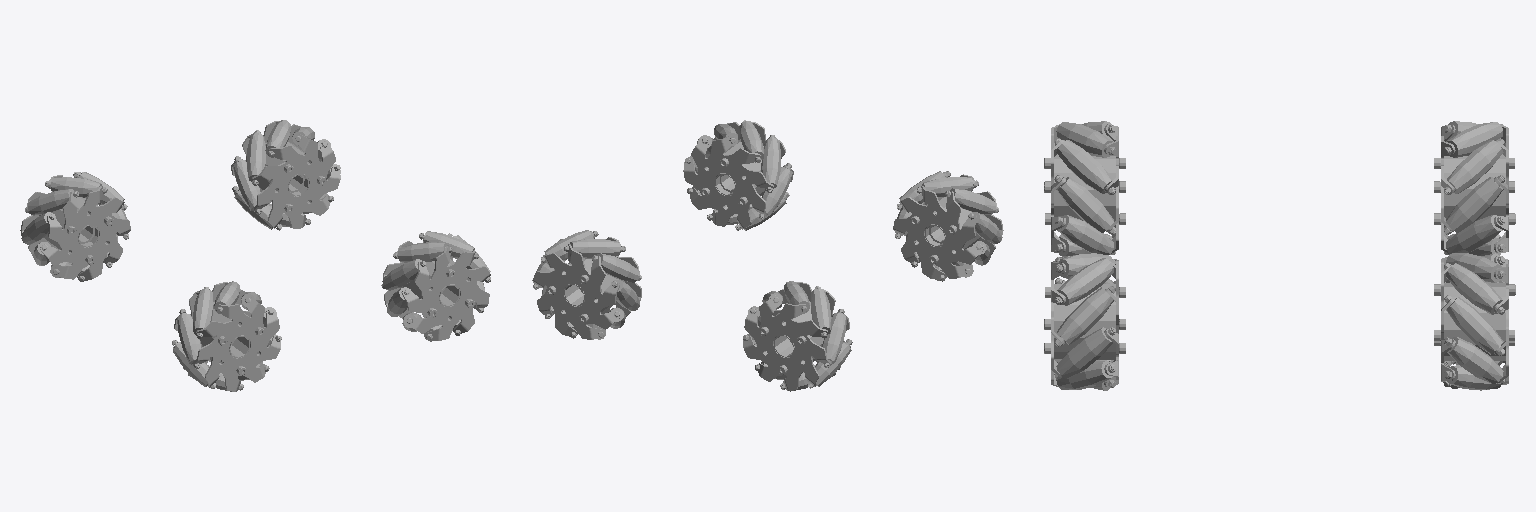
The robot description file, URDF, robot "tb4_model":
<?xml version="1.0" ?>
<robot name="tb4_model" xmlns:xacro="http://www.ros.org/wiki/xacro">
	<link name = "odom"/>
	<joint name="base_joint" type="fixed">
		<parent link="odom"/>
		<child link="base_link"/>	 
	</joint>
	<link name="base_link">
		<collision>
			<origin xyz = "0 0 0" rpy="0 0 0" />
			<geometry>
				<mesh filename="package://AR_TB4WD_model/meshes/base.stl" scale="0.01 0.01 0.01"/>
			</geometry>
		</collision>
		<visual>
			<geometry>
				<mesh filename="package://AR_TB4WD_model/meshes/base.stl" scale="0.01 0.01 0.01"/>
			</geometry>
			<material name="grey">
    				<color rgba="0.7 0.7 0.7 1.0"/>
  			</material>
		</visual>
	</link>
	<joint name="tb4_wheel_1_joint" type="revolute">
		<parent link="base_link"/>
		<child link="wheel0"/>
		<origin xyz = "0.115 0.1185 0.016" rpy="1.57 0 0" />
		<axis xyz="0 0 1" />
		<limit effort="1.0" lower="-3.14" upper="3.14" velocity="5.0"/>
	</joint>
	<link name="wheel0">
		<collision>
			<origin xyz = "0 0 0" rpy="0 0 0" />
			<geometry>
				<mesh filename="package://AR_TB4WD_model/meshes/wheel_1.stl" scale="0.01 0.01 0.01"/>
			</geometry>
		</collision>
		<visual>
			<geometry>
				<mesh filename="package://AR_TB4WD_model/meshes/wheel_1.stl" scale="0.01 0.01 0.01"/>
			</geometry>
			<material name="grey">
    				<color rgba="0.7 0.7 0.7 1.0"/>
  			</material>
		</visual>
	</link>
	<joint name="tb4_wheel_2_joint" type="revolute">
		<parent link="base_link"/>
		<child link="wheel1"/>
		<origin xyz = "0.115 -0.1185 0.016" rpy="1.57 0 0" />
		<axis xyz="0 0 1" />
		<limit effort="1.0" lower="-3.14" upper="3.14" velocity="5.0"/>
	</joint>
	<link name="wheel1">
		<collision>
			<origin xyz = "0 0 0" rpy="0 0 0" />
			<geometry>
				<mesh filename="package://AR_TB4WD_model/meshes/wheel_2.stl" scale="0.01 0.01 0.01"/>
			</geometry>
		</collision>
		<visual>
			<geometry>
				<mesh filename="package://AR_TB4WD_model/meshes/wheel_2.stl" scale="0.01 0.01 0.01"/>
			</geometry>
			<material name="grey">
    				<color rgba="0.7 0.7 0.7 1.0"/>
  			</material>
		</visual>
	</link>
	<joint name="tb4_wheel_3_joint" type="revolute">
		<parent link="base_link"/>
		<child link="wheel2"/>
		<origin xyz = "-0.115 0.1185 0.016" rpy="-1.57 0 0" />
		<axis xyz="0 0 1" />
		<limit effort="1.0" lower="-3.14" upper="3.14" velocity="5.0"/>
	</joint>
	<link name="wheel2">
		<collision>
			<origin xyz = "0 0 0" rpy="0 0 0" />
			<geometry>
				<mesh filename="package://AR_TB4WD_model/meshes/wheel_3.stl" scale="0.01 0.01 0.01"/>
			</geometry>
		</collision>
		<visual>
			<geometry>
				<mesh filename="package://AR_TB4WD_model/meshes/wheel_3.stl" scale="0.01 0.01 0.01"/>
			</geometry>
			<material name="grey">
    				<color rgba="0.7 0.7 0.7 1.0"/>
  			</material>
		</visual>
	</link>
	<joint name="tb4_wheel_4_joint" type="revolute">
		<parent link="base_link"/>
		<child link="wheel3"/>
		<origin xyz = "-0.115 -0.1185 0.016" rpy="-1.57 0 0" />
		<axis xyz="0 0 1" />
		<limit effort="1.0" lower="-3.14" upper="3.14" velocity="5.0"/>
	</joint>
	<link name="wheel3">
		<collision>
			<origin xyz = "0 0 0" rpy="0 0 0" />
			<geometry>
				<mesh filename="package://AR_TB4WD_model/meshes/wheel_4.stl" scale="0.01 0.01 0.01"/>
			</geometry>
		</collision>
		<visual>
			<geometry>
				<mesh filename="package://AR_TB4WD_model/meshes/wheel_4.stl" scale="0.01 0.01 0.01"/>
			</geometry>
			<material name="grey">
    				<color rgba="0.7 0.7 0.7 1.0"/>
  			</material>
		</visual>
	</link>

	<joint name="tb4_lidar" type="fixed">
		<parent link="base_link"/>
		<child link="laser"/>
		<origin xyz = "0.09 0 0.13" rpy="0 0 3.14" />
	</joint>
	<link name="laser">
	</link>

	<joint name="tb4_left_tc3" type="fixed">
		<parent link="base_link"/>
		<child link="left_tc3_link"/>
		<origin xyz = "0 0.175 0.235" rpy="-1.57 -1.57 0" />
	</joint>
	
	<link name="left_tc3_link">
	</link>

	<joint name="tb4_right_tc3" type="fixed">
		<parent link="base_link"/>
		<child link="right_tc3_link"/>
		<origin xyz = "0 -0.175 0.235" rpy="1.57 -1.57 0" />
	</joint>
	
	<link name="right_tc3_link">
	</link>
</robot>

--- What the picture shows (computed from the rendered views, not written in the file) ---
The picture shows the robot from 3 angles, left to right: view 1: azimuth 30°, elevation 25°; view 2: azimuth 150°, elevation 25°; view 3: azimuth 270°, elevation 25°; orthographic projection.
Robot: tb4_model — 9 links, 8 joints (4 revolute, 4 fixed); root link odom; default pose: every joint at zero.
Visible links, largest first — view 1: wheel0, wheel2, wheel3, wheel1; view 2: wheel1, wheel3, wheel0, wheel2; view 3: wheel1, wheel0, wheel3, wheel2.
Boxes of the visible links, x1,y1,x2,y2 form: wheel0: [231, 120, 340, 230]; wheel2: [20, 172, 130, 281]; wheel3: [172, 281, 281, 391]; wheel1: [381, 231, 490, 341]; wheel1: [683, 120, 793, 230]; wheel3: [893, 171, 1003, 281]; wheel0: [532, 230, 641, 339]; wheel2: [743, 281, 852, 391]; wheel1: [1044, 253, 1125, 390]; wheel0: [1434, 253, 1515, 390]; wheel3: [1044, 121, 1125, 256]; wheel2: [1434, 121, 1515, 255].
Bounding box of the posed robot: 0.3316 × 0.347 × 0.1023 m (x, y, z).
Meshes: 5 distinct files referenced, 4 mesh visuals loaded (4 binary STL); not drawn: 1 (reference not matched to a file when rendering).